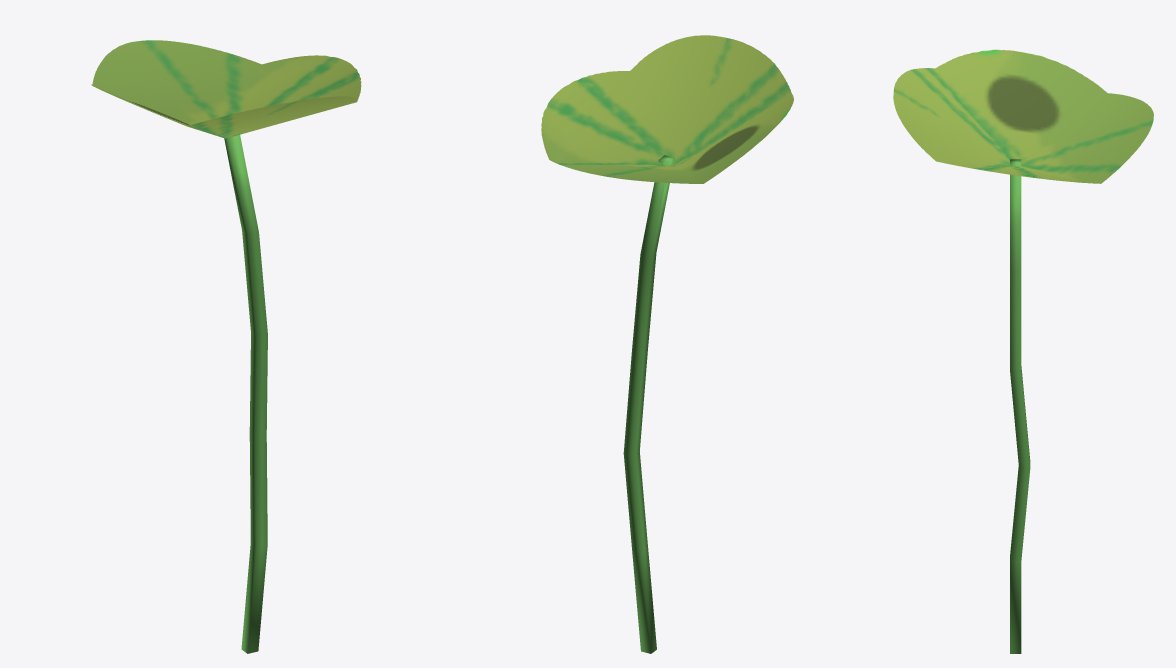
Rendered from SM_NenuphareSolo2.fbx.
The picture shows the model from 3 angles, left to right: view 1: azimuth 30°, elevation 25°; view 2: azimuth 150°, elevation 25°; view 3: azimuth 270°, elevation 25°; orthographic projection. The views are drawn at different scales.
Visible parts, largest first — view 1: SM_NenuphareSolo2; view 2: SM_NenuphareSolo2; view 3: SM_NenuphareSolo2.
Part boxes in pixels (x1,y1,x2,y2): SM_NenuphareSolo2: [91, 40, 361, 653]; SM_NenuphareSolo2: [541, 35, 793, 653]; SM_NenuphareSolo2: [893, 49, 1153, 653].
Bounding box in the file's own units: 49.71 × 108 × 47.01.
